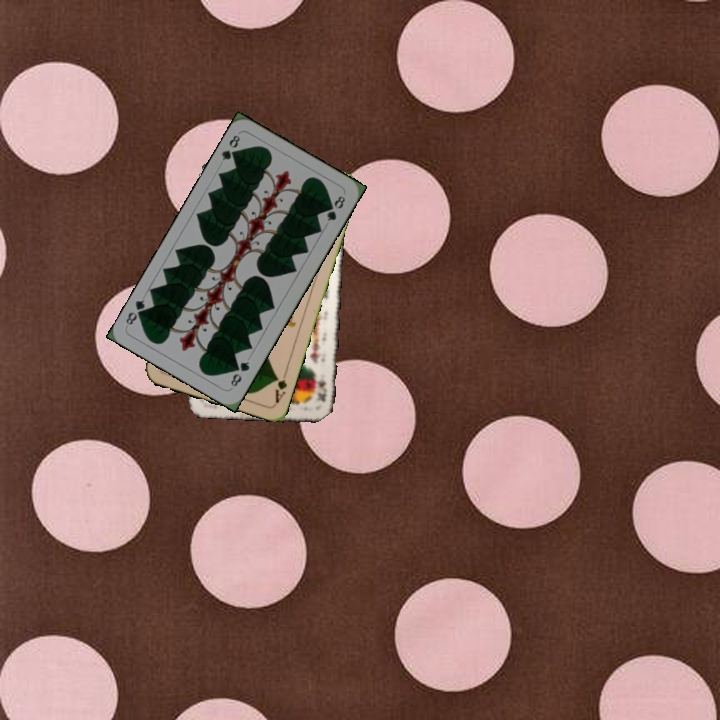G8: (226, 357, 252, 390), (217, 131, 243, 163)
GA: (271, 366, 290, 406)
SK: (312, 369, 330, 404)
